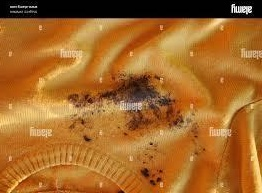earth: (105, 77, 171, 108), (125, 109, 184, 129), (69, 116, 91, 141), (68, 93, 94, 108), (141, 169, 164, 185)
